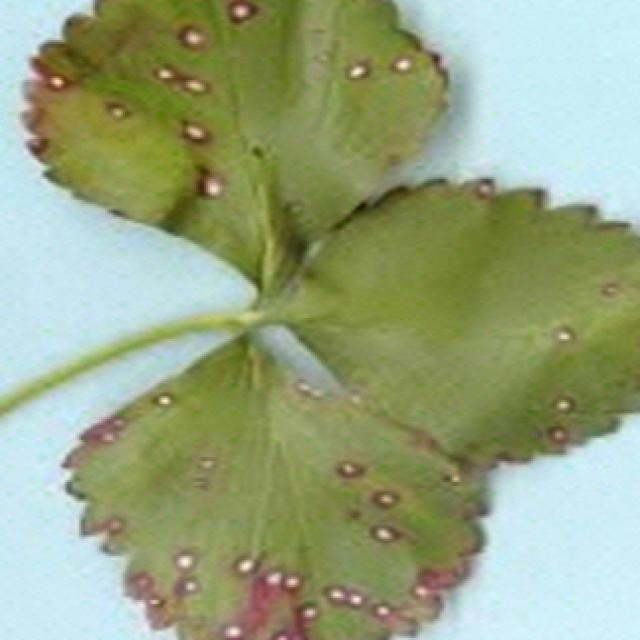Leaf Spot: (58, 323, 488, 640), (17, 0, 453, 303), (262, 176, 640, 471)
